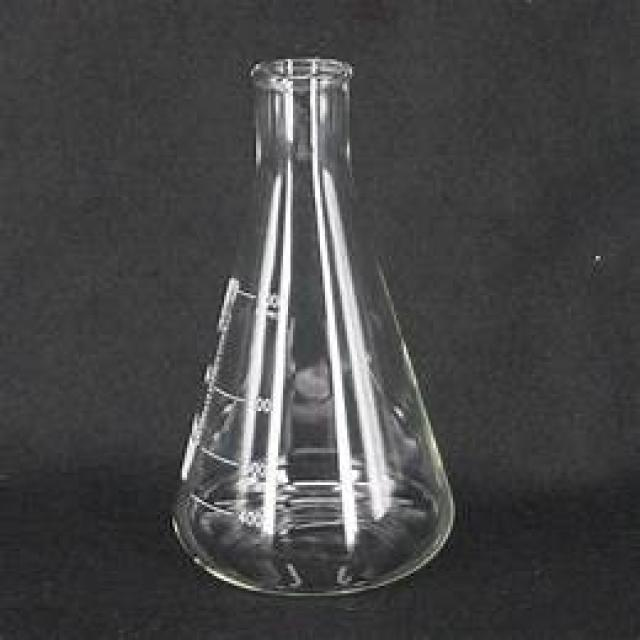Titrarion: (156, 43, 461, 593)
